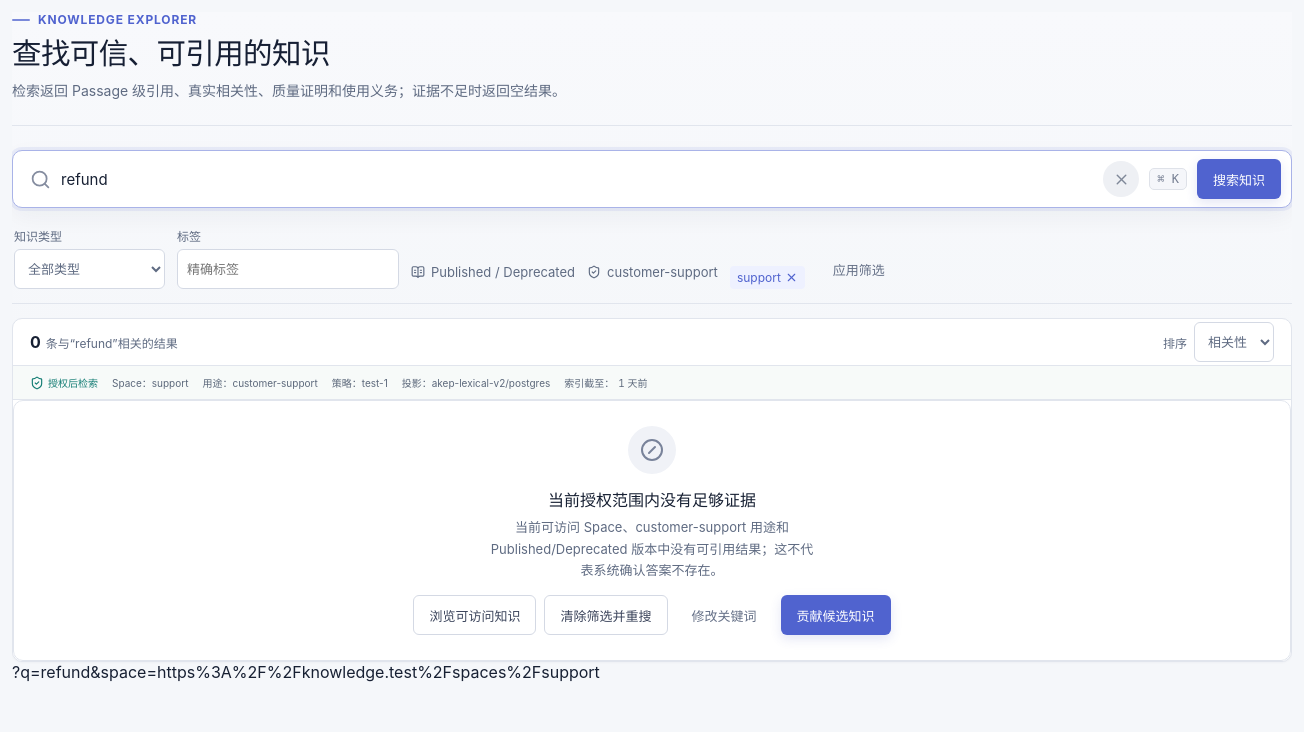
Scenario: knowledge explorer request identity › explains zero results and can broaden a Space-filtered search
Expected: the heading "当前授权范围内没有足够证据" is shown, [548,487,756,511]
Expected: the text "不代表系统确认答案不存在" is shown, [491,519,813,578]
Click the button "清除筛选并重搜" at point(606, 615), box [544,595,668,635]
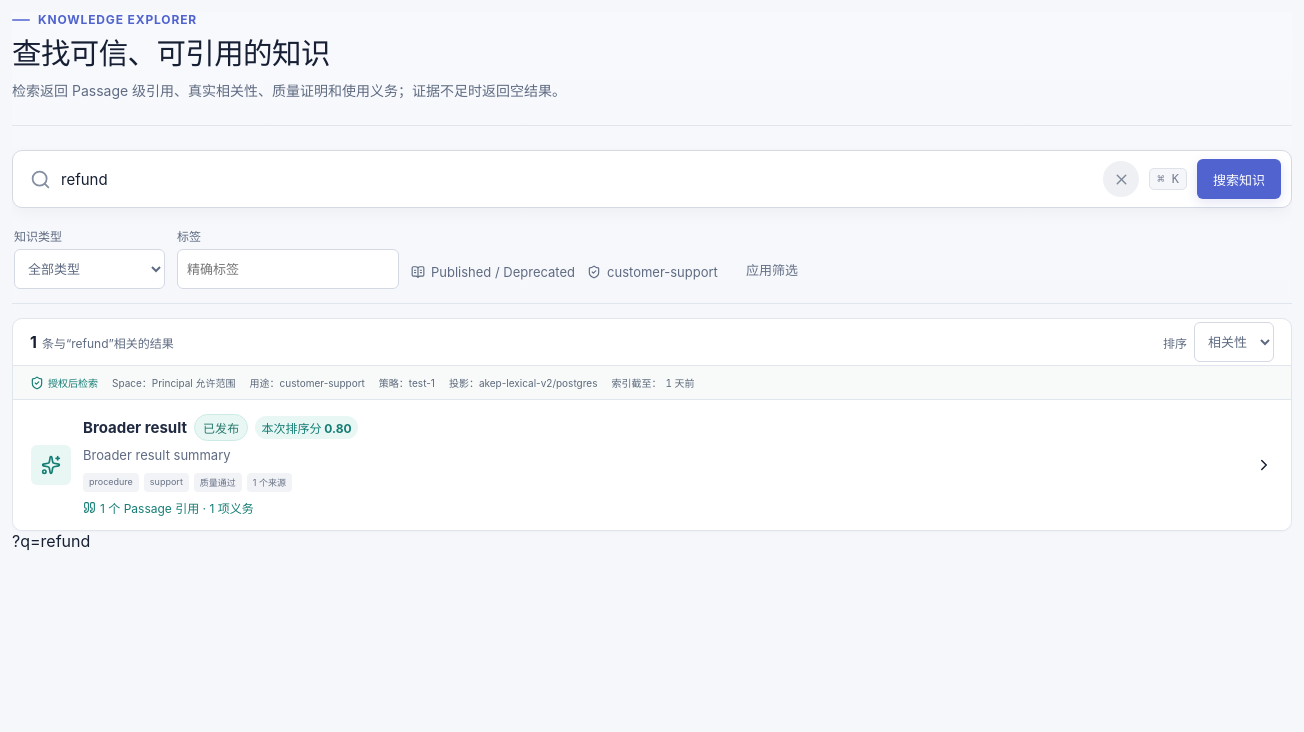
Result: the text "Broader result" is shown at [83,418,187,437]
